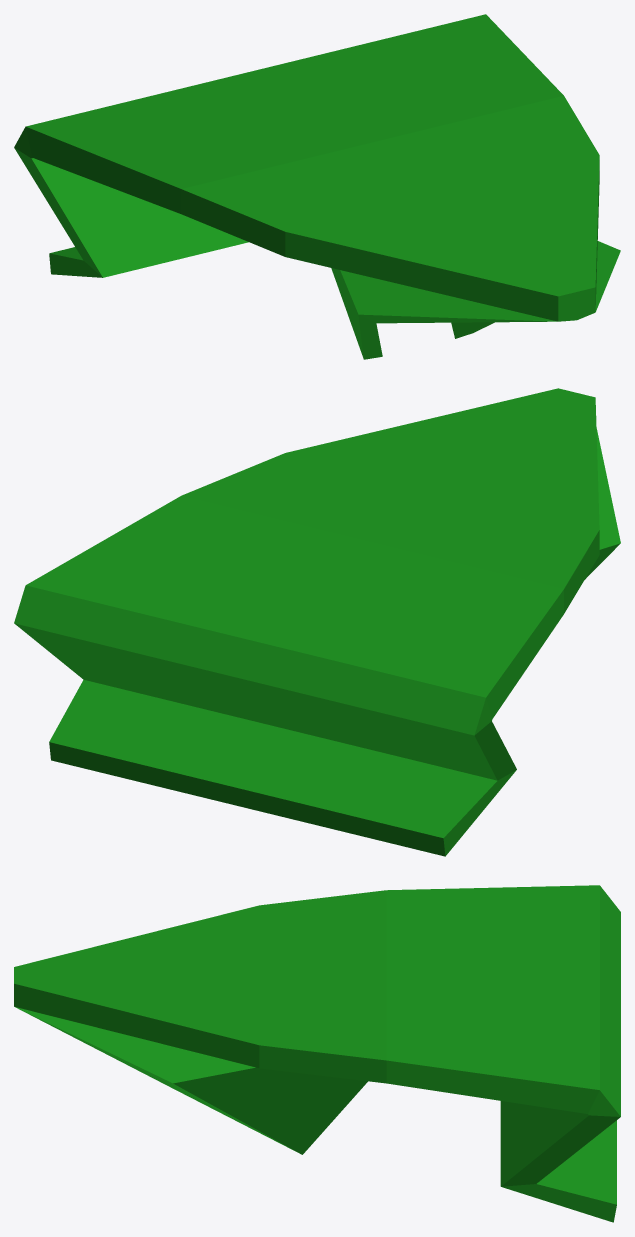
Rendered from placeholder_frog (2).FBX.
3 renders of one model, top to bottom at view 1: azimuth 30°, elevation 25°; view 2: azimuth 150°, elevation 25°; view 3: azimuth 270°, elevation 25°, orthographic. The views are drawn at different scales.
Visible parts, largest first — view 1: modello; view 2: modello; view 3: modello.
Boxes of the visible parts, x1,y1,x2,y2 form: modello: (14,14,620,359); modello: (14,388,620,856); modello: (14,885,620,1222).
Bounding box in the file's own units: 1.55 × 0.5646 × 1.95.
